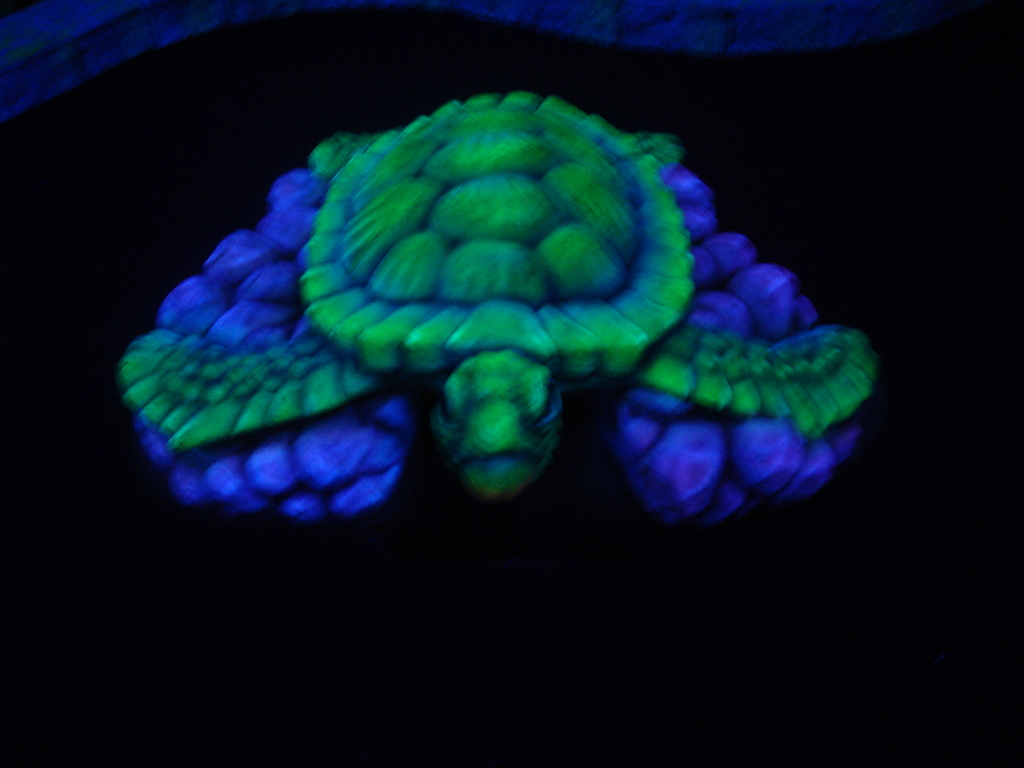Sea turtles: (113, 88, 880, 524)
